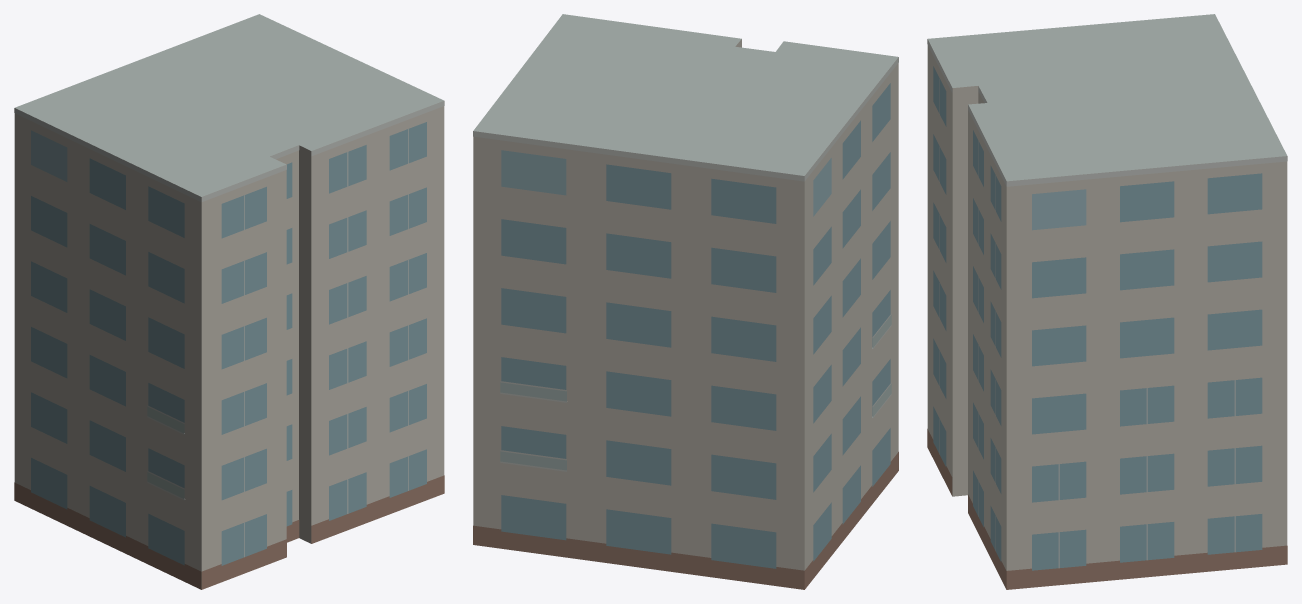
The model's file is survey-upis-32707536.glb.
3 renders of one model, left to right at view 1: azimuth 30°, elevation 25°; view 2: azimuth 150°, elevation 25°; view 3: azimuth 270°, elevation 25°, orthographic. The views are drawn at different scales.
Parts seen in each view (by area): view 1: survey-upis-32707536.tmp; view 2: survey-upis-32707536.tmp; view 3: survey-upis-32707536.tmp.
Part boxes in pixels (x1,y1,x2,y2): survey-upis-32707536.tmp: (14, 14, 444, 589); survey-upis-32707536.tmp: (473, 14, 898, 589); survey-upis-32707536.tmp: (927, 14, 1287, 589).
Size of the model in its own units: 16.09 by 18.3 by 14.63.
